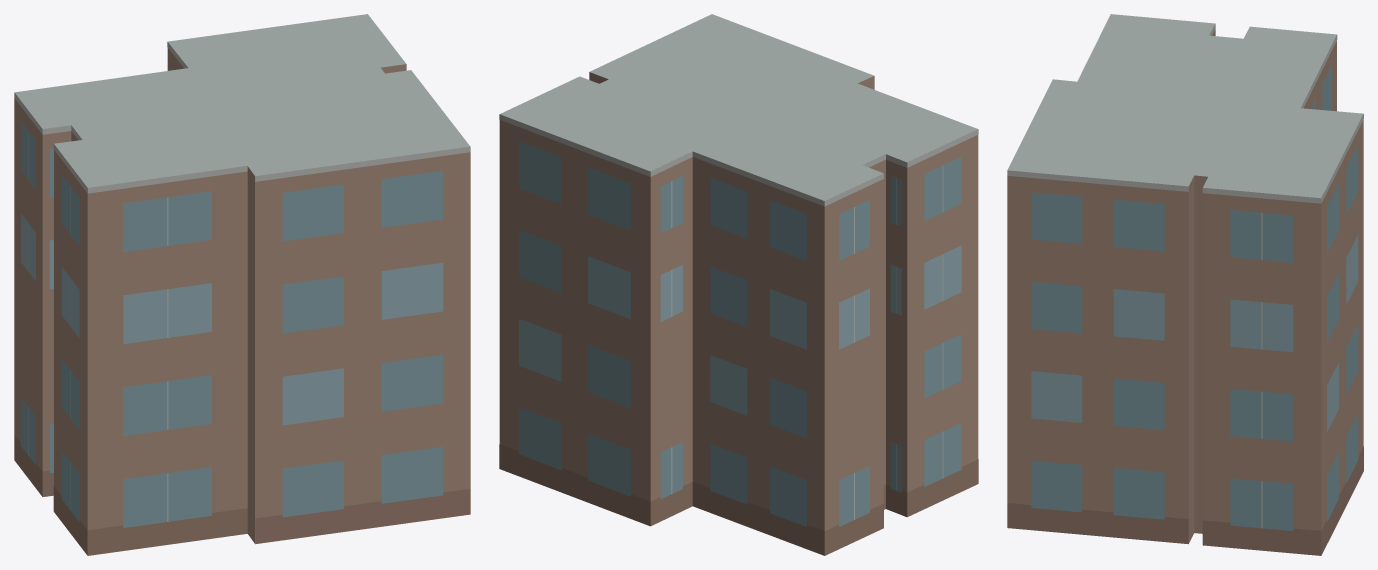
File: survey-upis-32981724.glb
The picture shows the model from 3 angles, left to right: view 1: azimuth 30°, elevation 25°; view 2: azimuth 150°, elevation 25°; view 3: azimuth 270°, elevation 25°; orthographic projection. The views are drawn at different scales.
Visible parts, largest first — view 1: survey-upis-32981724.tmp; view 2: survey-upis-32981724.tmp; view 3: survey-upis-32981724.tmp.
Part boxes in pixels (x1,y1,x2,y2): survey-upis-32981724.tmp: (14, 14, 470, 555); survey-upis-32981724.tmp: (499, 14, 978, 555); survey-upis-32981724.tmp: (1007, 14, 1363, 555).
Bounding box in the file's own units: 17.63 × 15.95 × 14.42.
